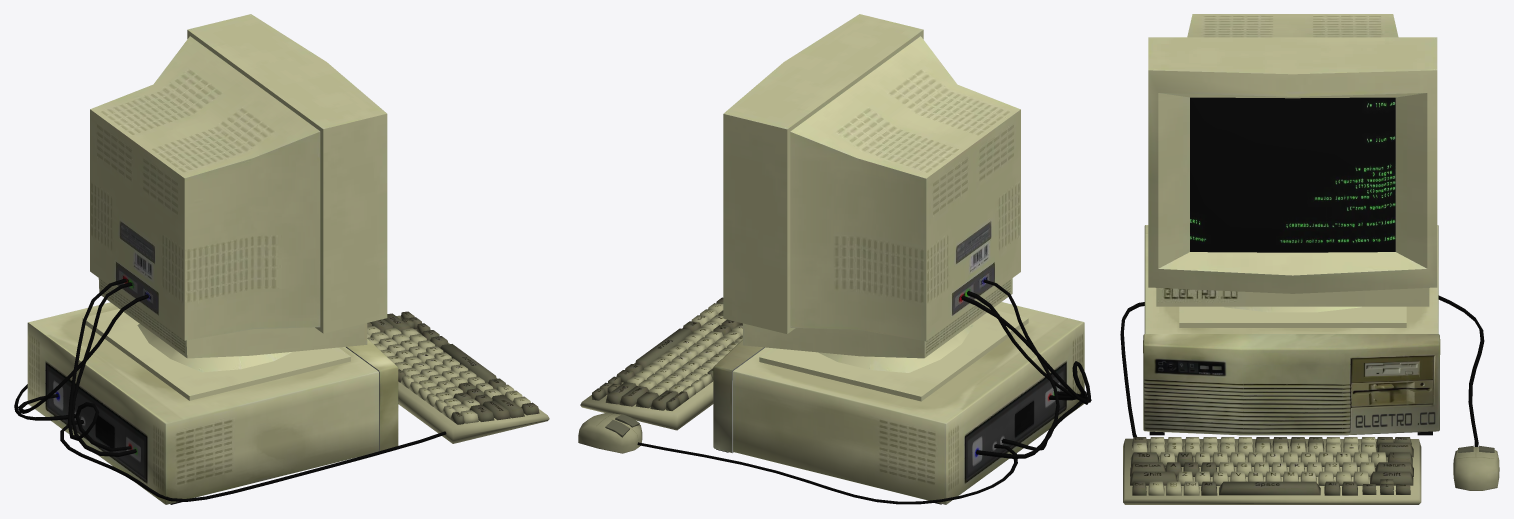
File: computer_opt-transformed.glb
The picture shows the model from 3 angles, left to right: view 1: azimuth 30°, elevation 25°; view 2: azimuth 150°, elevation 25°; view 3: azimuth 270°, elevation 25°; orthographic projection. The views are drawn at different scales.
Visible parts, largest first — view 1: Object_6, Object_11, Object_4, Object_12, Object_22; view 2: Object_6, Object_11, Object_4, Object_12, Object_22, Object_9; view 3: Object_6, Object_7, Object_22, Object_4, Object_11, Object_9, Object_12.
Part boxes in pixels (x1,y1,x2,y2): Object_6: (82, 14, 387, 400); Object_11: (27, 302, 378, 504); Object_4: (367, 311, 549, 443); Object_12: (14, 278, 446, 504); Object_22: (346, 339, 398, 451); Object_6: (723, 14, 1028, 401); Object_11: (732, 302, 1084, 504); Object_4: (580, 297, 742, 430); Object_12: (637, 279, 1091, 504); Object_22: (713, 339, 764, 453); Object_9: (578, 412, 642, 453); Object_6: (1148, 14, 1437, 327); Object_7: (1190, 97, 1395, 252); Object_22: (1143, 334, 1440, 435); Object_4: (1123, 437, 1421, 504); Object_11: (1144, 225, 1438, 333); Object_9: (1453, 445, 1499, 490); Object_12: (1120, 295, 1484, 446).
Size of the model in its own units: 0.7459 by 0.5671 by 0.541.
Materials: 7 (6 with a texture image).
